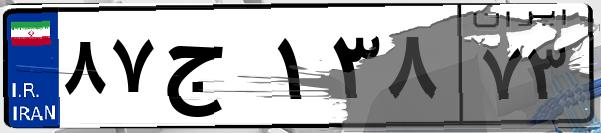1: (270, 28, 330, 110)
3: (330, 28, 385, 110), (525, 38, 570, 115)
7: (475, 38, 525, 113), (110, 28, 158, 98)
8: (385, 28, 445, 110), (57, 26, 110, 100)
ج: (158, 20, 270, 120)
